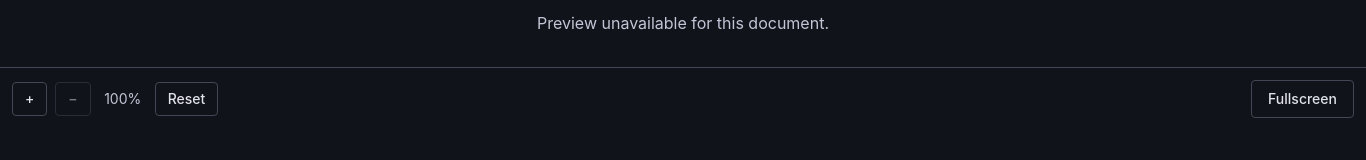
SourceDocumentPreview — return to default view (026-pdf-preview-zoom-pan US3) › decreases the zoom level when zoom-out is clicked and stops at 100%
The width and height of the screenshot is (1366, 160).
Click the button with test id "source-preview-zoom-in" at (30, 99), box [12, 82, 47, 116]
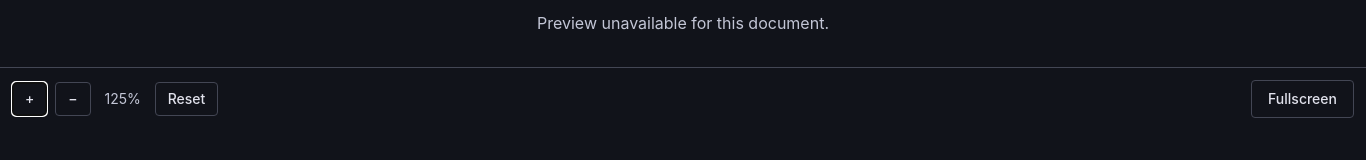
Click the button with test id "source-preview-zoom-in" at (30, 99), box [12, 82, 47, 116]
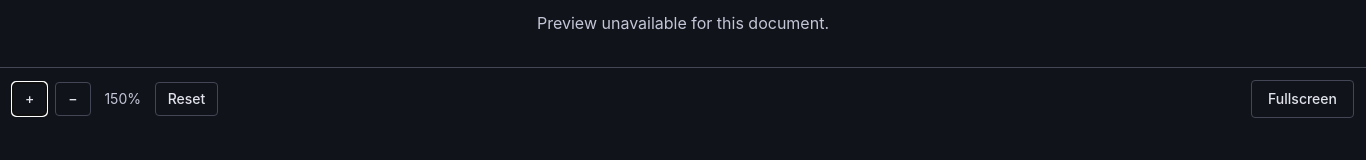
expect the text with test id "source-preview-zoom-level" reads "150%": met, box [104, 90, 141, 107]
Click the button with test id "source-preview-zoom-out" at (73, 99), box [55, 82, 91, 116]
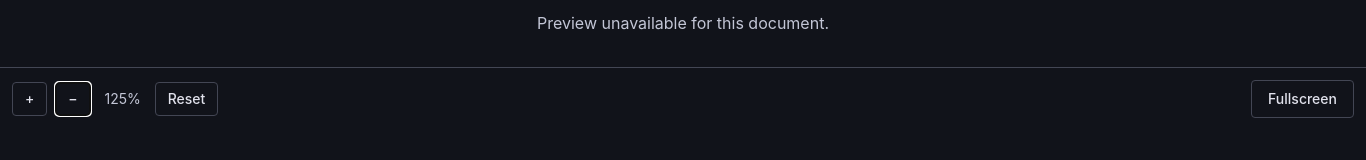
expect the text with test id "source-preview-zoom-level" reads "125%": met, box [105, 90, 141, 107]
Click the button with test id "source-preview-zoom-out" at (73, 99), box [55, 82, 91, 116]
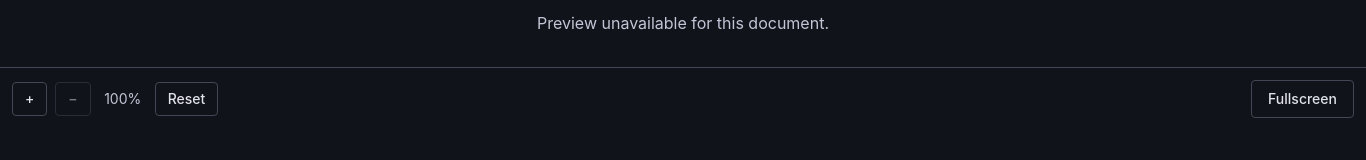
expect the text with test id "source-preview-zoom-level" reads "100%": met, box [104, 90, 141, 107]
